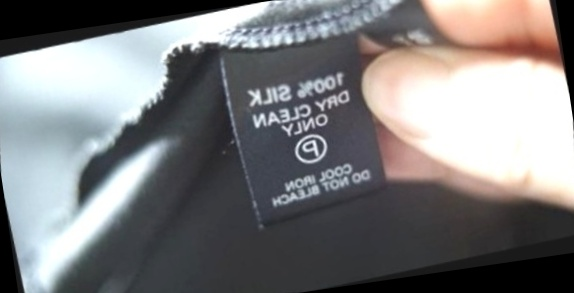dry_clean_any_solvent_except_trichloroethylene: (287, 126, 333, 170)
